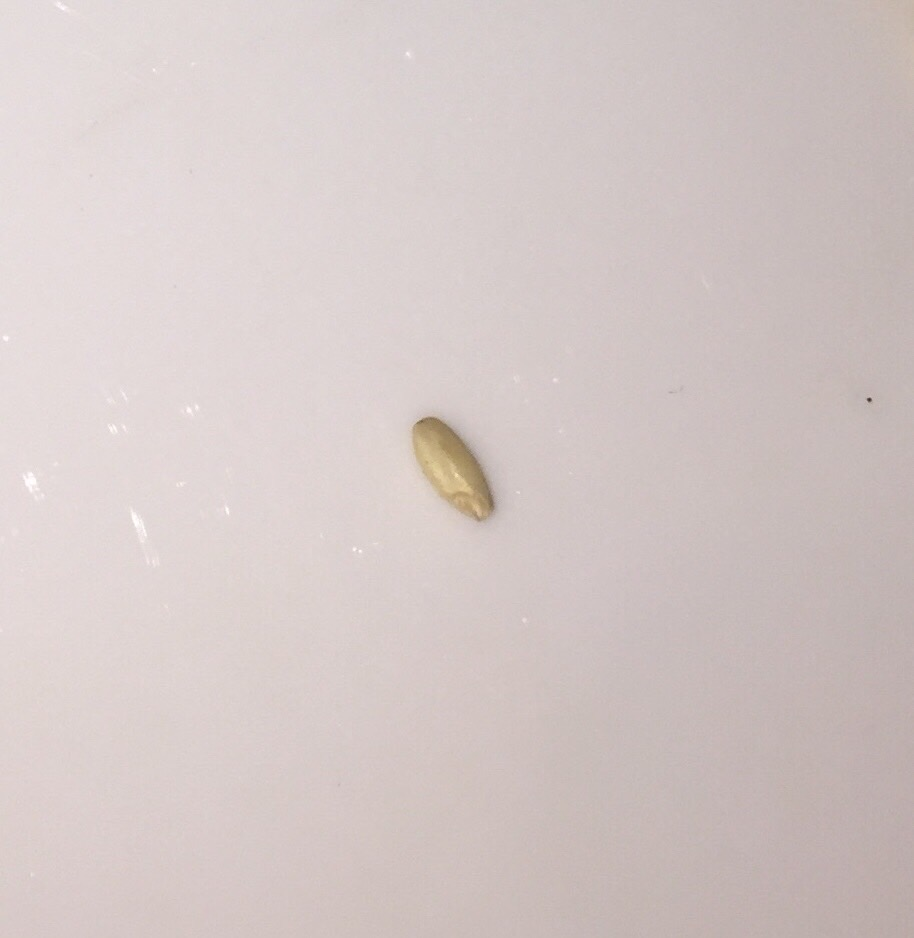Gao Lut Bac: (388, 393, 518, 549)
